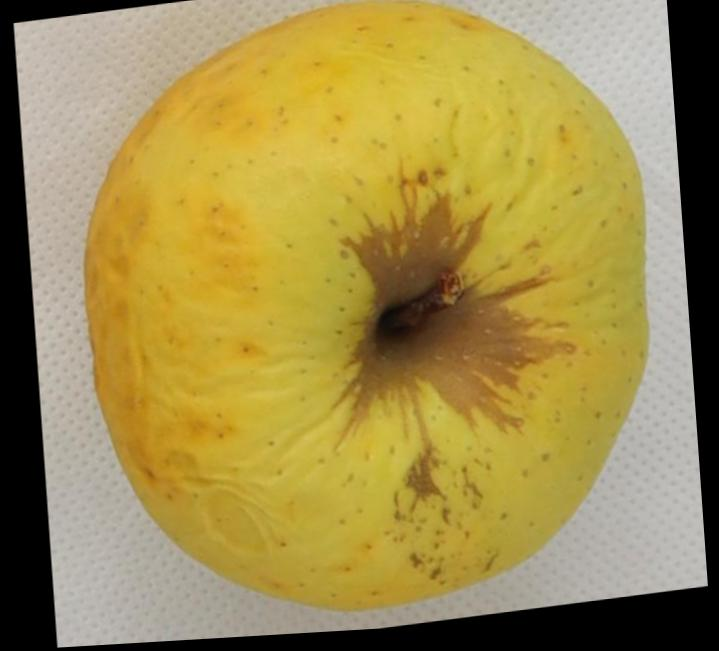apple: (85, 0, 646, 610)
bruise_discoloration: (335, 193, 575, 487)
